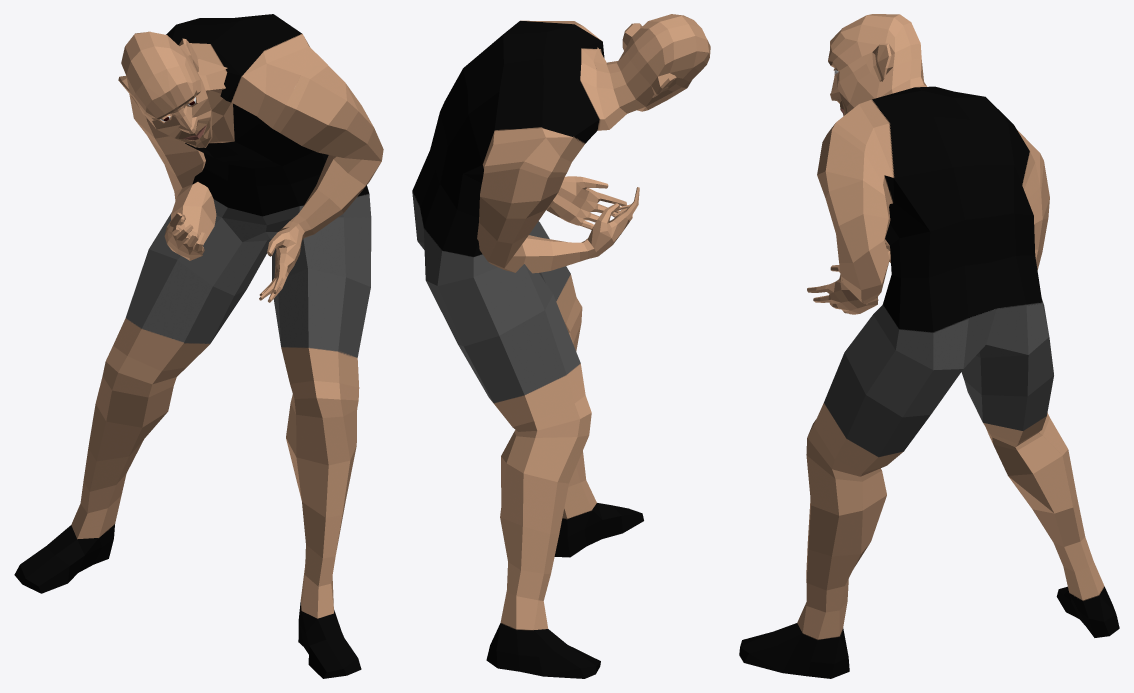
File: PlayerDead(14).obj
The picture shows the model from 3 angles, left to right: view 1: azimuth 30°, elevation 25°; view 2: azimuth 150°, elevation 25°; view 3: azimuth 270°, elevation 25°; orthographic projection. The views are drawn at different scales.
Visible parts, largest first — view 1: Plane002; view 2: Plane002; view 3: Plane002.
Boxes of the visible parts, box(x1,y1,x2,y2) form: Plane002: box(14, 14, 383, 678); Plane002: box(412, 14, 710, 678); Plane002: box(739, 14, 1119, 678).
Size of the model in its own units: 659 by 1467 by 852.
